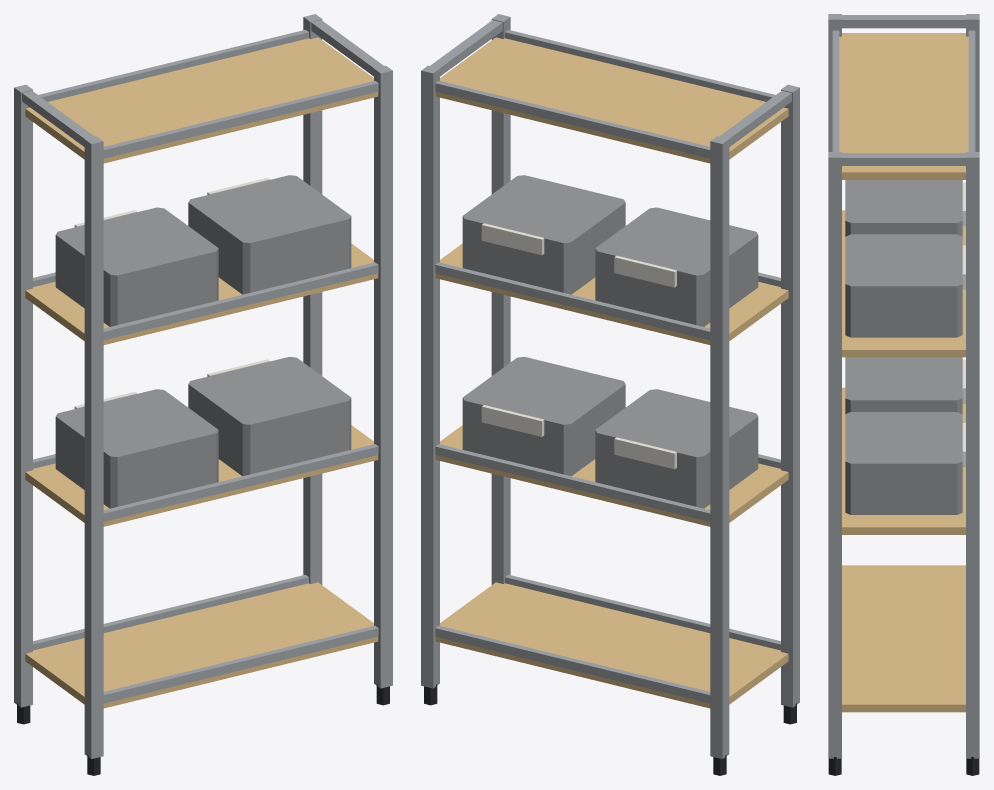
Rendered from SM_LPI_Util_ShelfRack_01.fbx.
3 renders of one model, left to right at view 1: azimuth 30°, elevation 25°; view 2: azimuth 150°, elevation 25°; view 3: azimuth 270°, elevation 25°, orthographic. The views are drawn at different scales.
Parts seen in each view (by area): view 1: SM_LPI_Util_ShelfRack_01; view 2: SM_LPI_Util_ShelfRack_01; view 3: SM_LPI_Util_ShelfRack_01.
Boxes of the visible parts, bbox=[...] form: SM_LPI_Util_ShelfRack_01: bbox=[14, 14, 392, 775]; SM_LPI_Util_ShelfRack_01: bbox=[421, 14, 799, 775]; SM_LPI_Util_ShelfRack_01: bbox=[828, 14, 979, 775].
Bounding box in the file's own units: 0.904 × 1.8 × 0.4.
